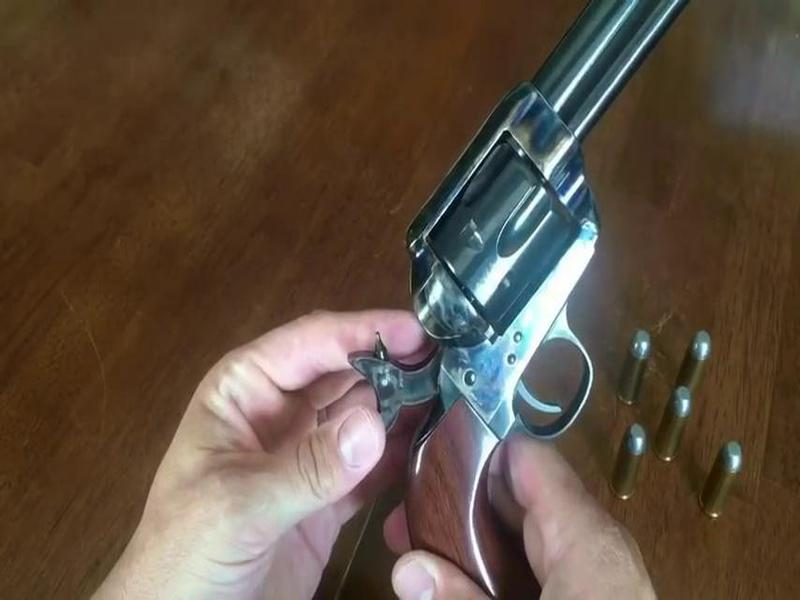Revolver: (369, 17, 620, 535)
